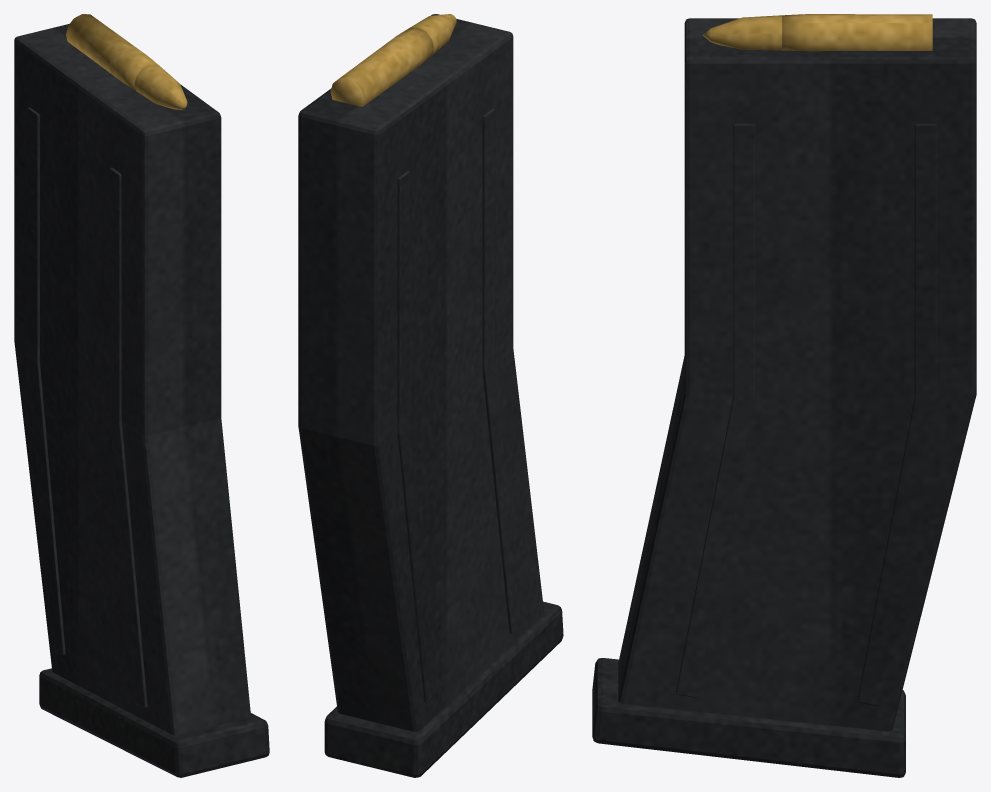
File: mag_stanag.glb
3 views of the same model, side by side, from view 1: azimuth 30°, elevation 25°; view 2: azimuth 150°, elevation 25°; view 3: azimuth 270°, elevation 25° (orthographic). The views are drawn at different scales.
Visible parts, largest first — view 1: mag_stanag; view 2: mag_stanag; view 3: mag_stanag.
Boxes of the visible parts, bbox=[...] form: mag_stanag: bbox=[14, 14, 269, 777]; mag_stanag: bbox=[298, 14, 563, 777]; mag_stanag: bbox=[592, 14, 976, 777].
Bounding box in the file's own units: 0.027 × 0.1856 × 0.0869.
Materials: 3 (3 with a texture image).
